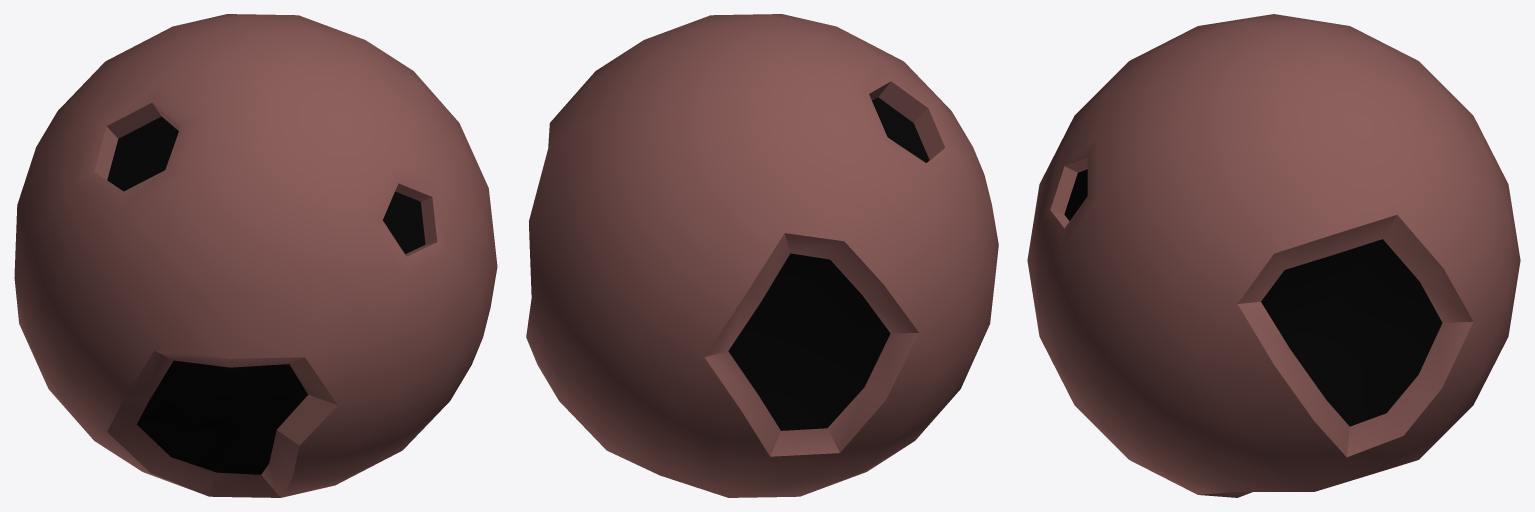
The model's file is Asteroid.fbx.
3 views of the same model, side by side, from view 1: azimuth 30°, elevation 25°; view 2: azimuth 150°, elevation 25°; view 3: azimuth 270°, elevation 25° (orthographic).
Visible parts, largest first — view 1: Icosphere; view 2: Icosphere; view 3: Icosphere.
Part boxes in pixels (box(x1,y1,x2,y2)): Icosphere: box(14, 14, 497, 497); Icosphere: box(526, 14, 998, 497); Icosphere: box(1027, 14, 1520, 497).
Bounding box in the file's own units: 200 × 200 × 200.
